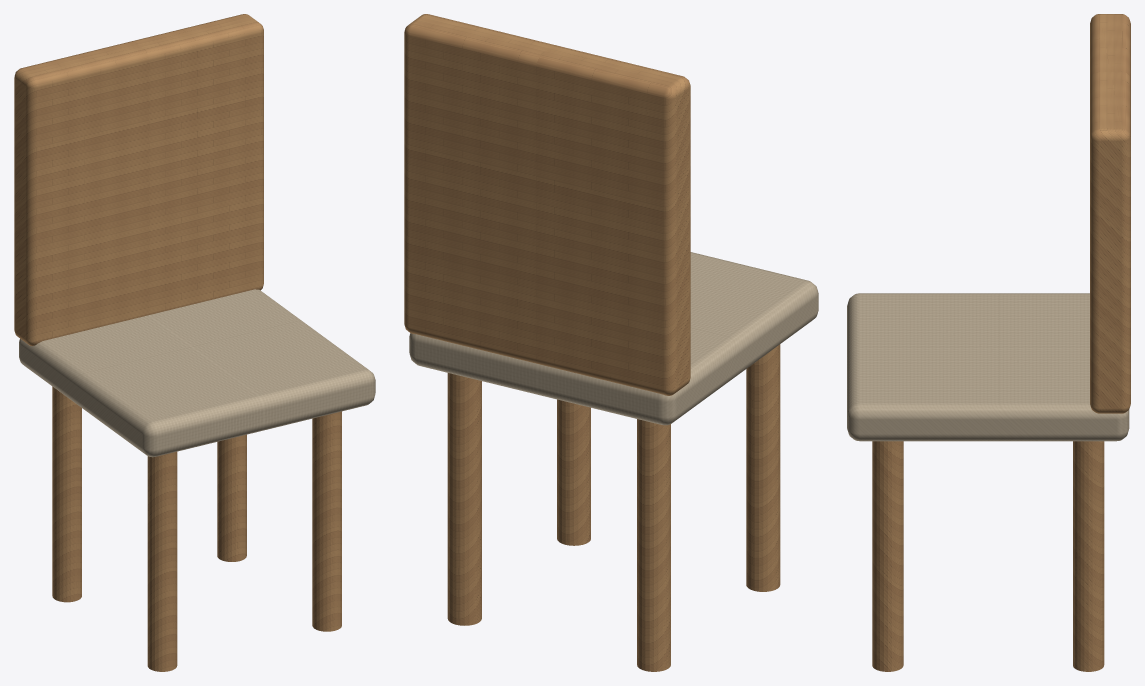
The model's file is dining_chair_north.dae.
The picture shows the model from 3 angles, left to right: view 1: azimuth 30°, elevation 25°; view 2: azimuth 150°, elevation 25°; view 3: azimuth 270°, elevation 25°; orthographic projection. The views are drawn at different scales.
Visible parts, largest first — view 1: oak, linen; view 2: oak, linen; view 3: linen, oak.
Part boxes in pixels (<box>): oak: <box>14,14,341,671</box>; linen: <box>19,289,375,457</box>; oak: <box>404,14,780,671</box>; linen: <box>409,252,818,425</box>; linen: <box>847,293,1129,441</box>; oak: <box>872,14,1130,671</box>.
Size of the model in its own units: 0.46 by 0.4525 by 0.97.
2 materials, 2 textured.
